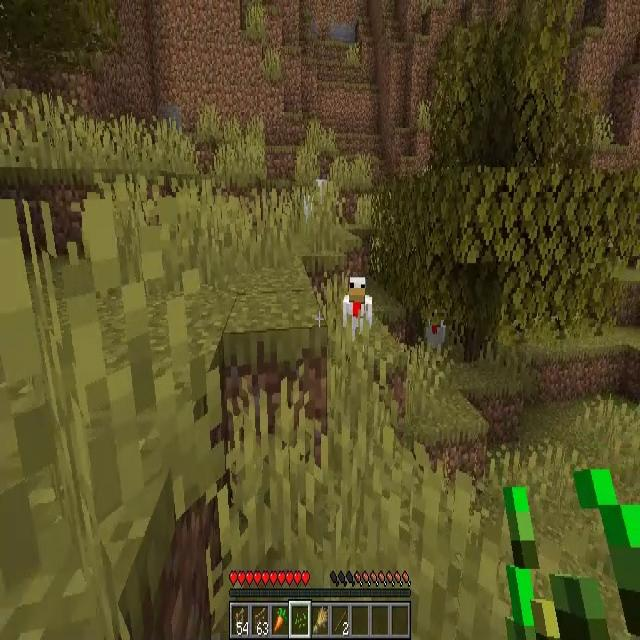duck: (342, 278, 371, 336), (425, 308, 446, 348)
